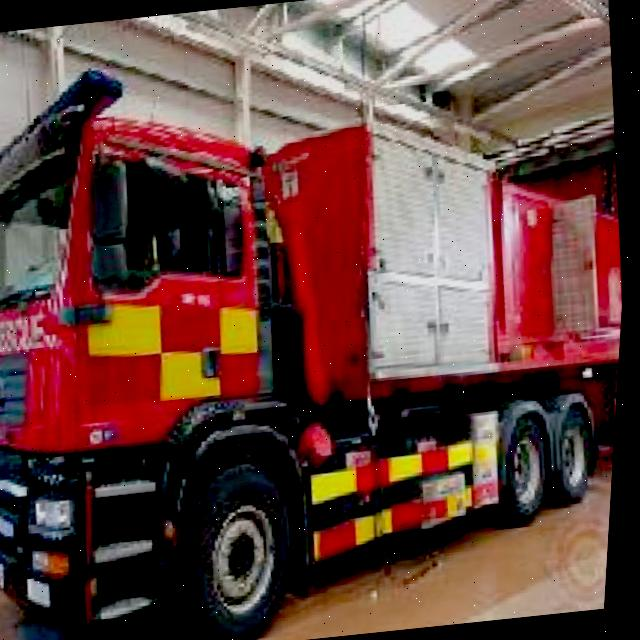emergency: (0, 6, 640, 640)
